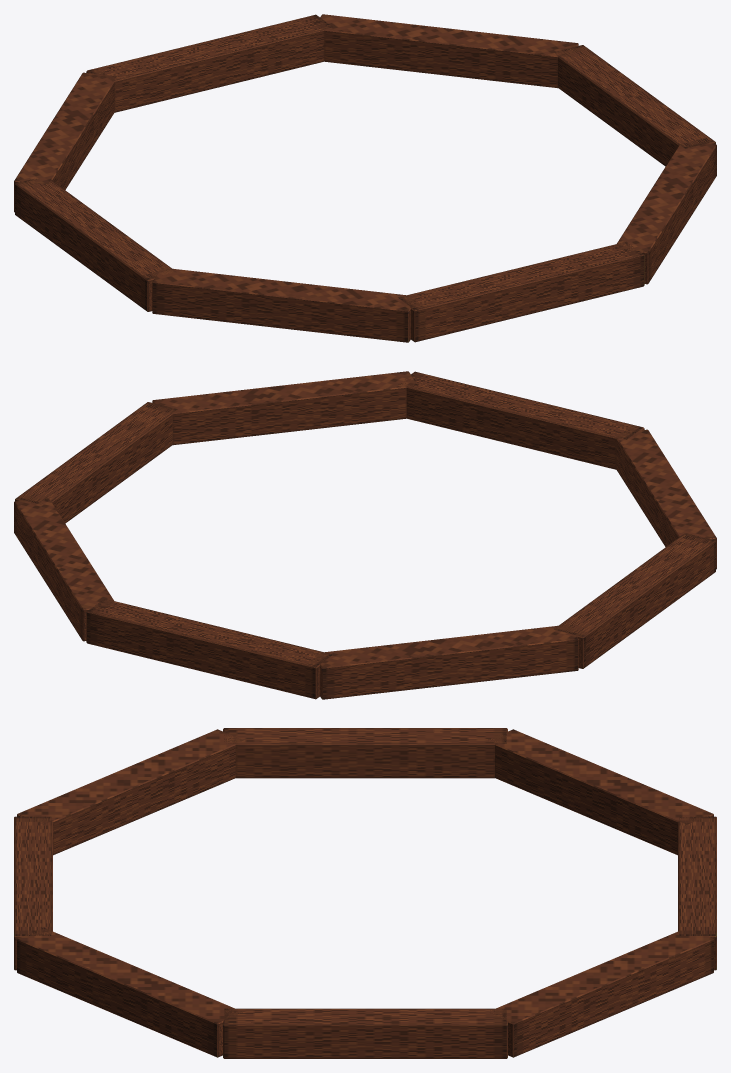
The model's file is env_hole_topsoil_backing.fbx.
3 views of the same model, one above another, from view 1: azimuth 30°, elevation 25°; view 2: azimuth 150°, elevation 25°; view 3: azimuth 270°, elevation 25° (orthographic). The views are drawn at different scales.
Visible parts, largest first — view 1: env_hole_topsoil_backing; view 2: env_hole_topsoil_backing; view 3: env_hole_topsoil_backing.
Boxes of the visible parts, box(x1,y1,x2,y2) form: env_hole_topsoil_backing: box(14, 14, 716, 342); env_hole_topsoil_backing: box(14, 371, 716, 699); env_hole_topsoil_backing: box(14, 728, 716, 1058).
Size of the model in its own units: 144 by 7.8 by 144.
1 material, 1 textured.
